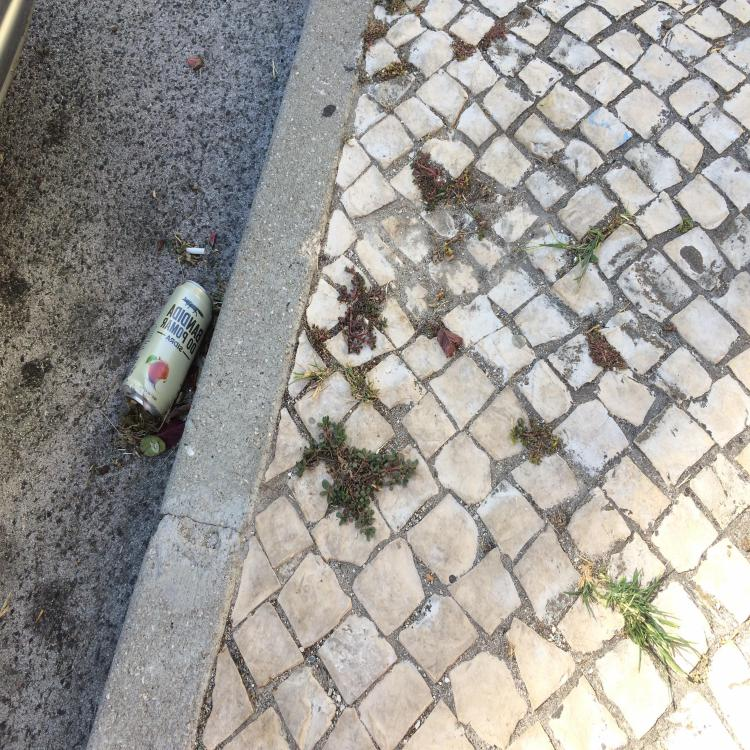Cigarette: (186, 247, 205, 255)
Drink can: (122, 280, 214, 418)
